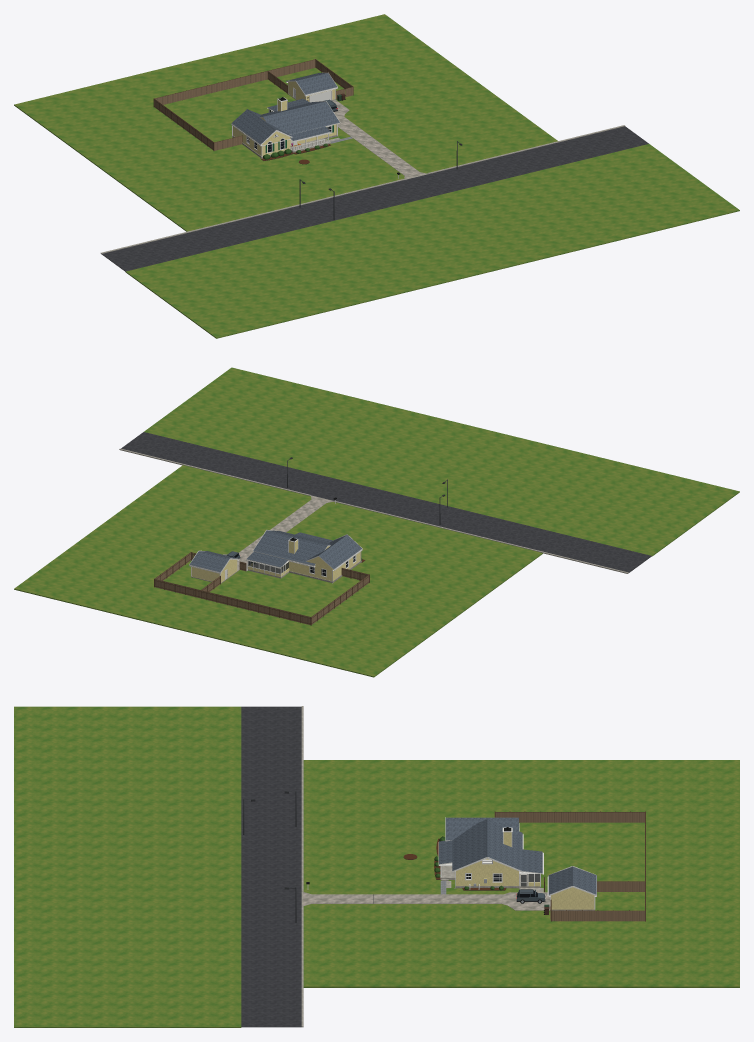
File: house.glb
The picture shows the model from 3 angles, top to bottom: view 1: azimuth 30°, elevation 25°; view 2: azimuth 150°, elevation 25°; view 3: azimuth 270°, elevation 25°; orthographic projection. The views are drawn at different scales.
Visible parts, largest first — view 1: Lawn, Hardscape, Roofs, Fence, House Shell, House Trim; view 2: Lawn, Hardscape, Roofs, Fence, House Shell, House Trim, Garage; view 3: Lawn, Hardscape, Roofs, Fence, House Shell, House Trim, Garage.
Part boxes in pixels (<box>): Lawn: <box>14,14,739,338</box>; Hardscape: <box>100,100,648,271</box>; Roofs: <box>231,73,339,144</box>; Fence: <box>153,59,353,150</box>; House Shell: <box>232,100,337,158</box>; House Trim: <box>231,72,340,158</box>; Lawn: <box>14,367,739,677</box>; Hardscape: <box>119,432,651,573</box>; Roofs: <box>189,530,362,572</box>; Fence: <box>154,552,369,625</box>; House Shell: <box>248,540,361,582</box>; House Trim: <box>189,530,362,583</box>; Garage: <box>191,559,237,583</box>; Lawn: <box>14,706,739,1027</box>; Hardscape: <box>241,706,550,1027</box>; Roofs: <box>439,817,596,894</box>; Fence: <box>494,811,645,921</box>; House Shell: <box>440,832,540,888</box>; House Trim: <box>438,817,596,909</box>; Garage: <box>551,887,594,910</box>.
Bounding box in the file's own units: 120 × 7.28 × 115.
Materials: 41 (12 with a texture image).
